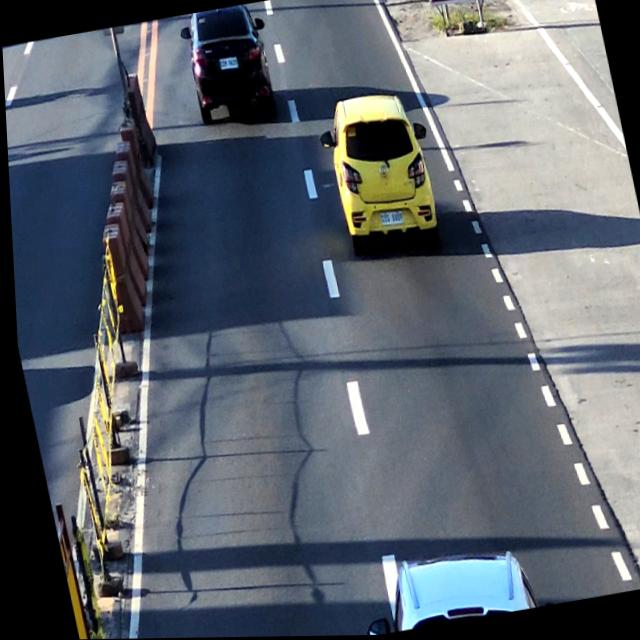Car: (316, 91, 440, 255), (372, 542, 526, 633), (175, 5, 282, 134)
License-Plate: (375, 208, 402, 228), (215, 55, 241, 74)
